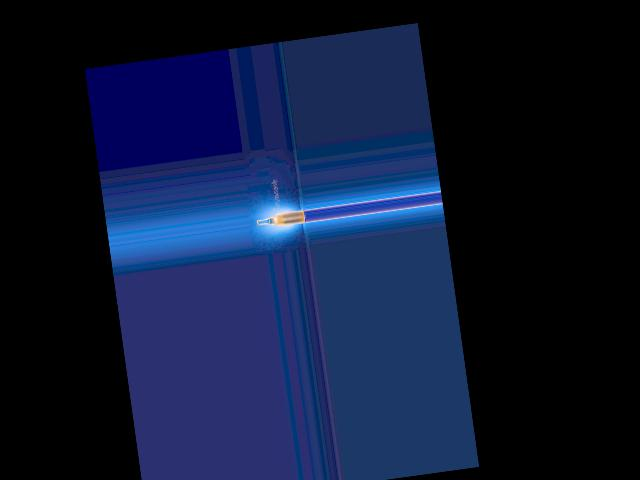beer: (256, 210, 305, 230)
